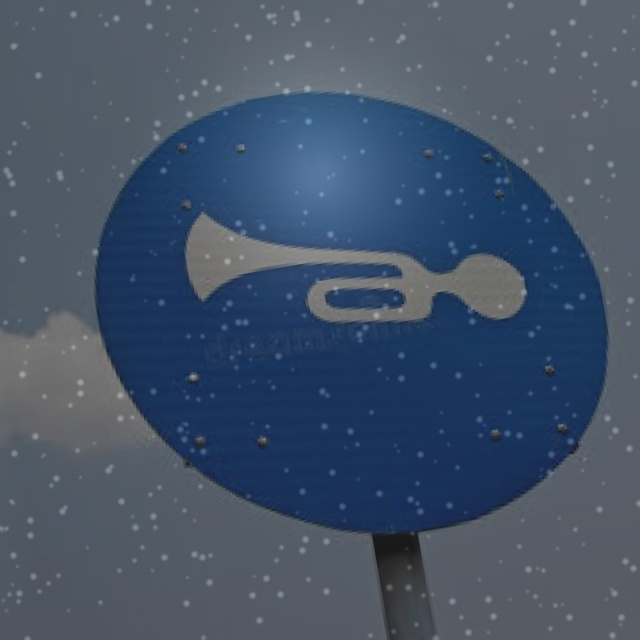Compulsory_Sound_Horn: (74, 46, 628, 565)
